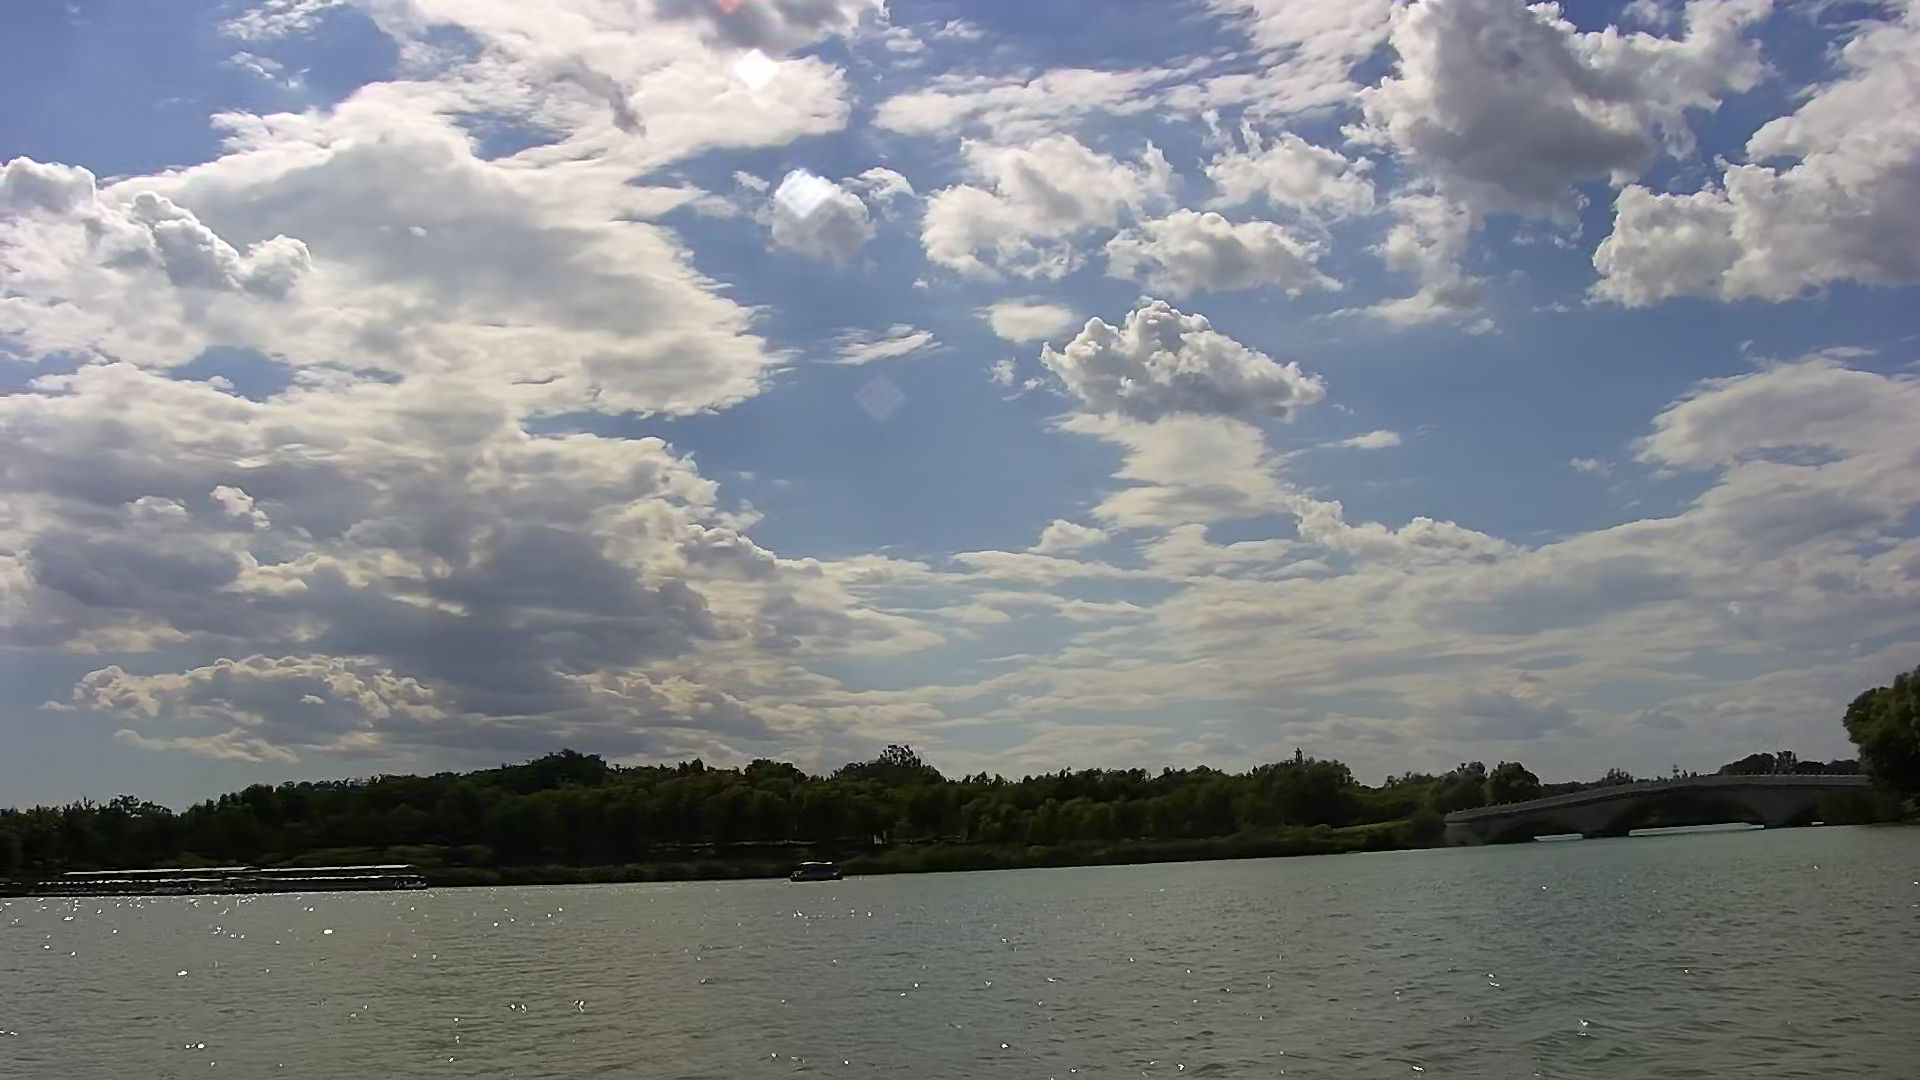boat: (791, 855, 837, 887)
bridge: (1440, 769, 1863, 845)
harbor: (55, 860, 431, 895)
